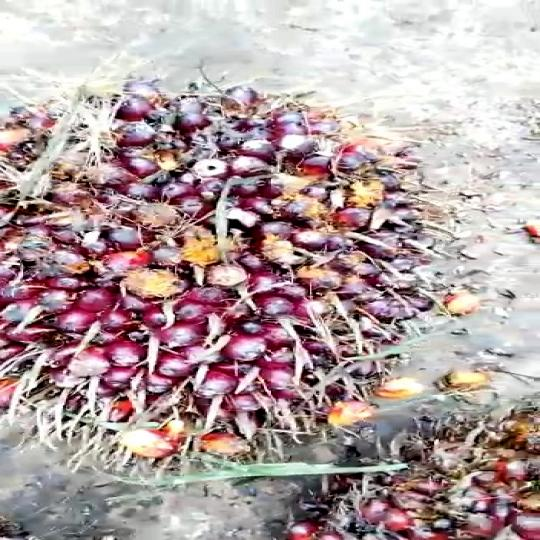masak: (0, 61, 483, 473)
